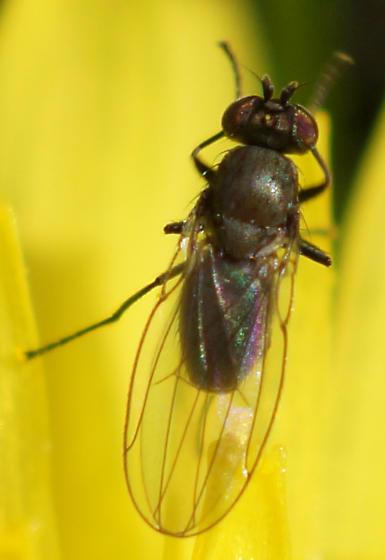Ephydridae: (22, 40, 355, 540)
